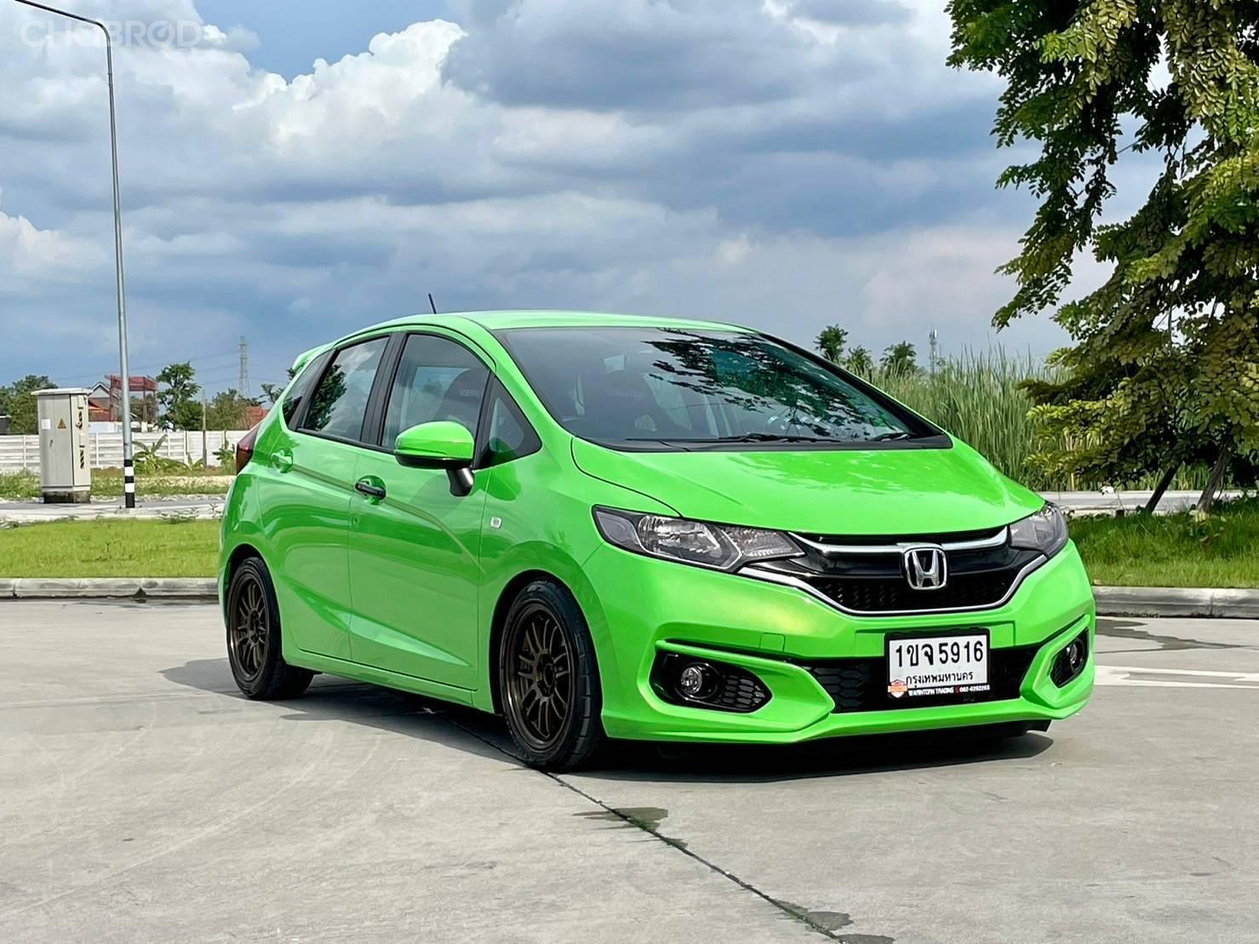license-plate: (884, 630, 992, 705)
